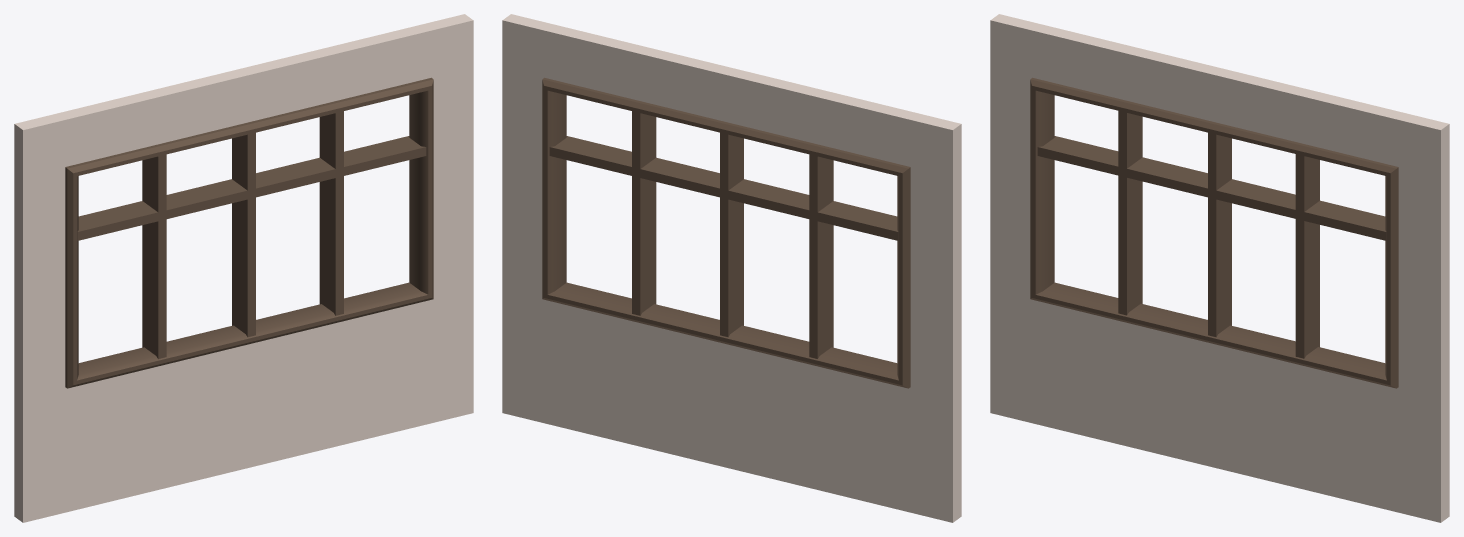
Rendered from Wall_Window.fbx.
3 renders of one model, left to right at view 1: azimuth 30°, elevation 25°; view 2: azimuth 150°, elevation 25°; view 3: azimuth 330°, elevation 25°, orthographic.
Visible parts, largest first — view 1: Wall_Window1; view 2: Wall_Window1; view 3: Wall_Window1.
Boxes of the visible parts, x1=… form: Wall_Window1: x1=14, y1=14, x2=473, y2=522; Wall_Window1: x1=502, y1=14, x2=961, y2=522; Wall_Window1: x1=990, y1=14, x2=1449, y2=522.
Size of the model in its own units: 300 by 250 by 20.
